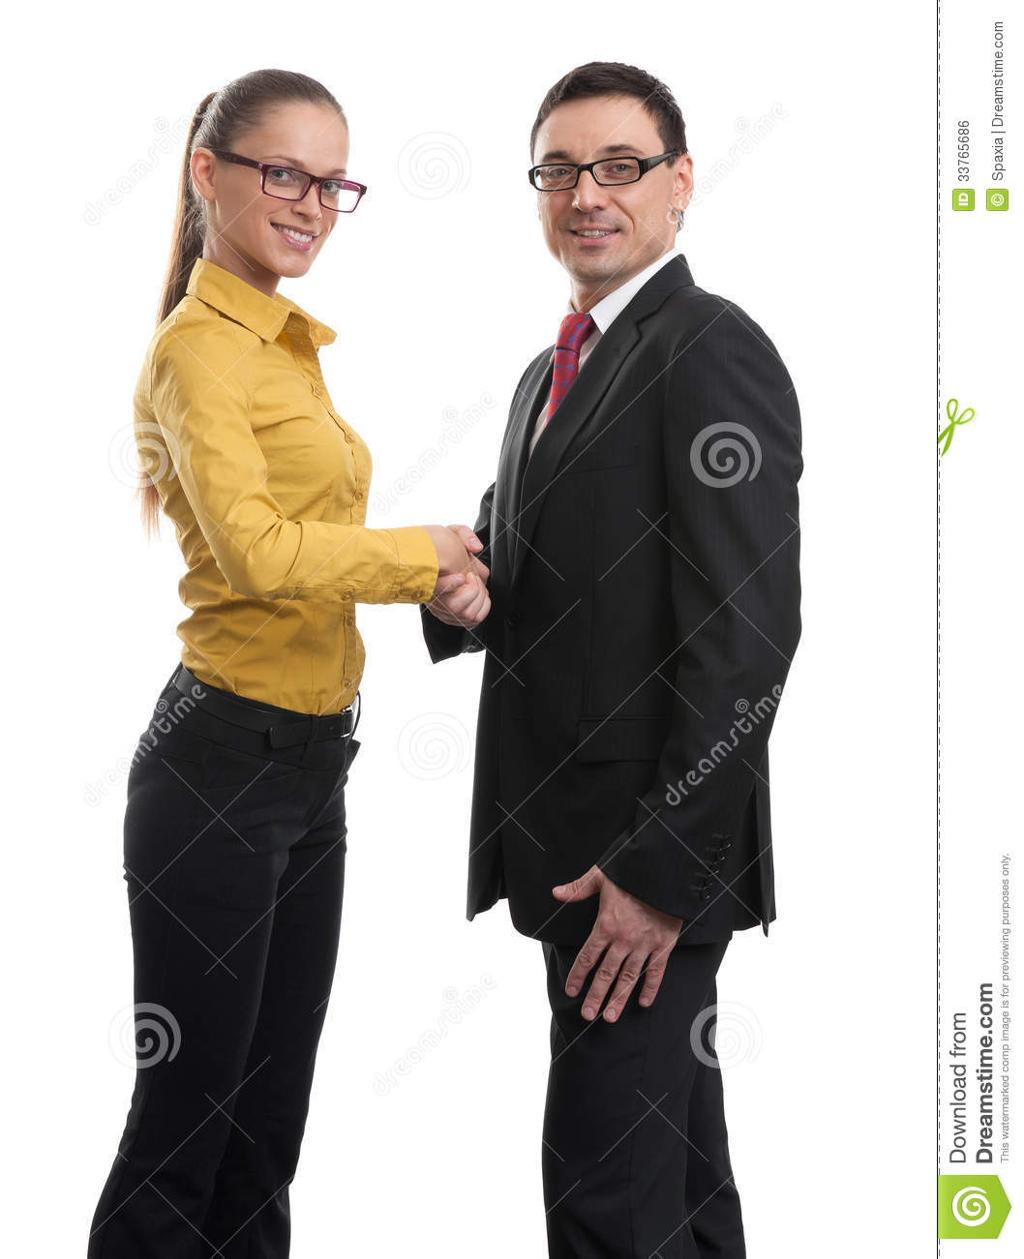face: (533, 101, 666, 280), (223, 101, 351, 275)
